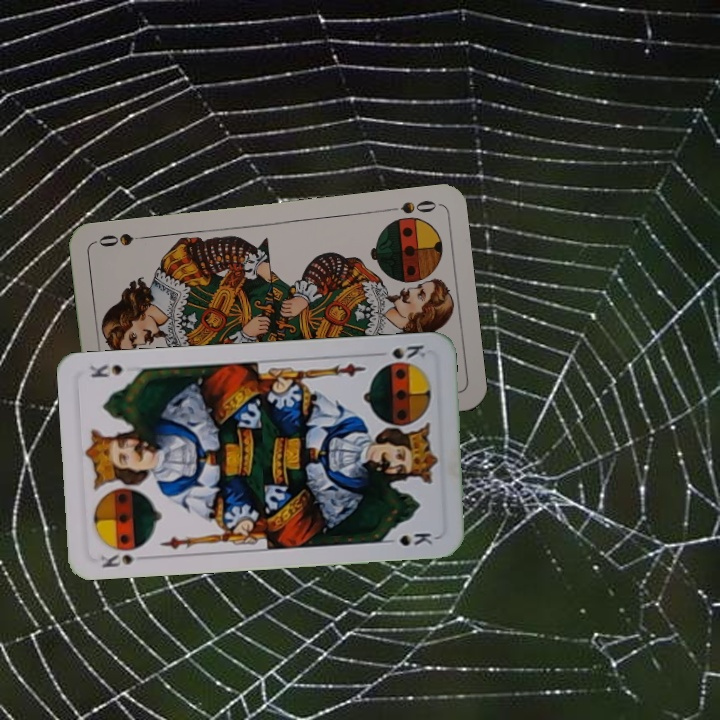SK: (375, 341, 428, 369), (96, 550, 151, 571)
SO: (381, 196, 439, 217)
